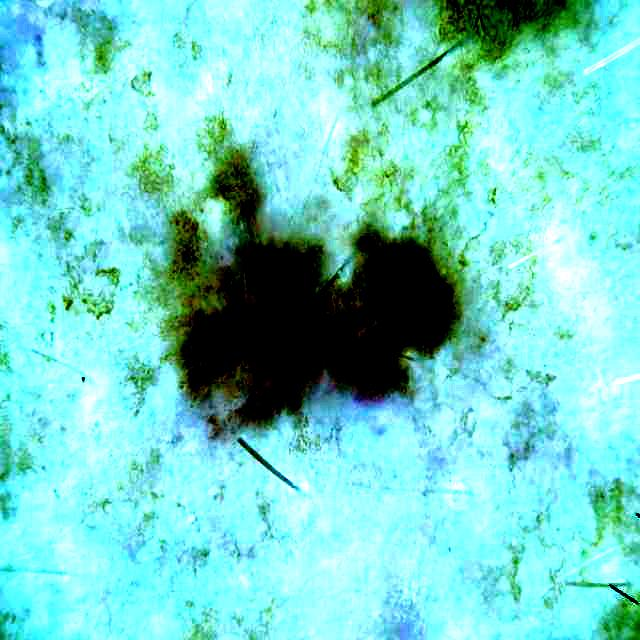AKIEC: (171, 151, 452, 422)
